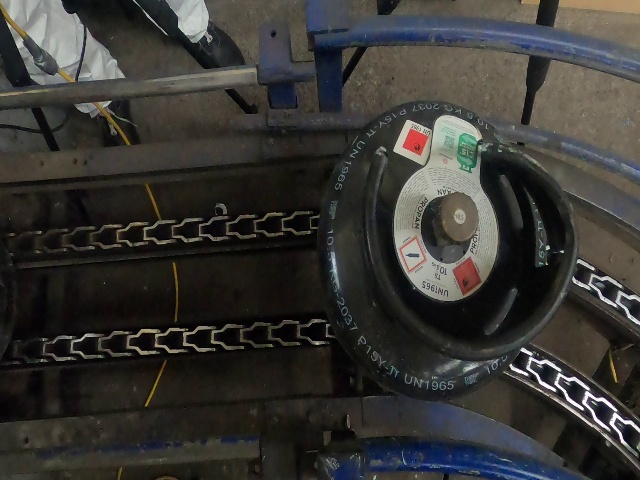gas_bottle: (14, 17, 640, 480)
